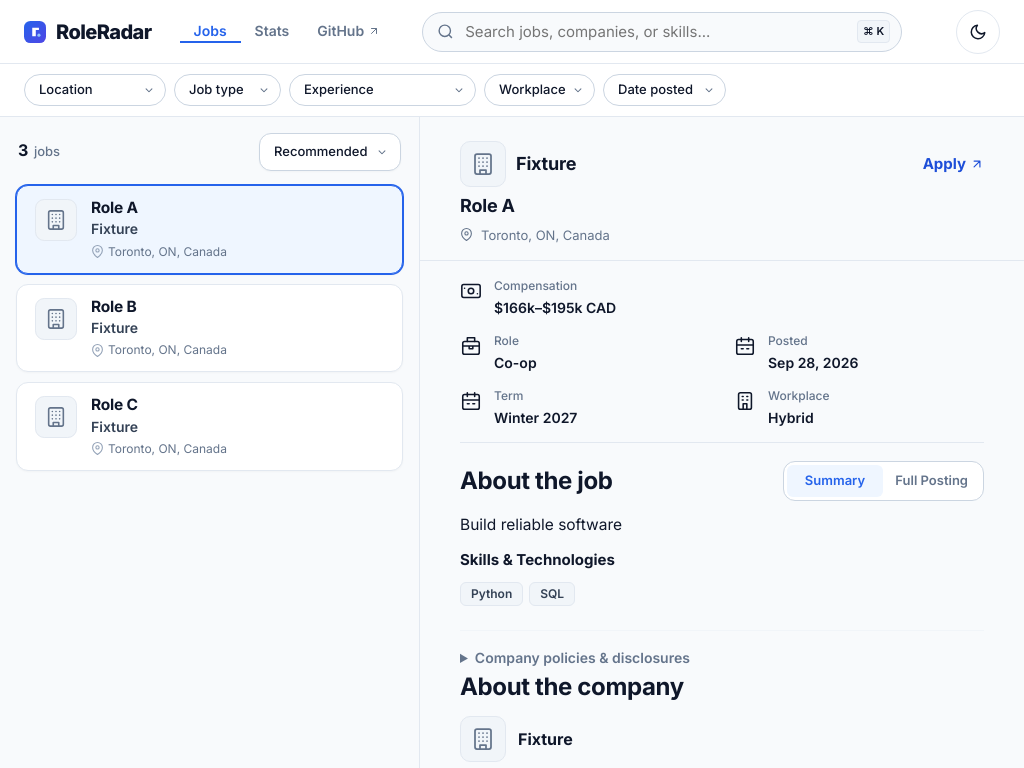
Test case: desktop split view › selecting jobs does not refetch or reload the job list
This screenshot has width=1024, height=768.
Expected: the heading "Role A" below "Apply" is shown, [460,195,515,216]
Step 1. Click the button with aria-label "View details for Role B" → point(114, 306), box [91,297,136,316]
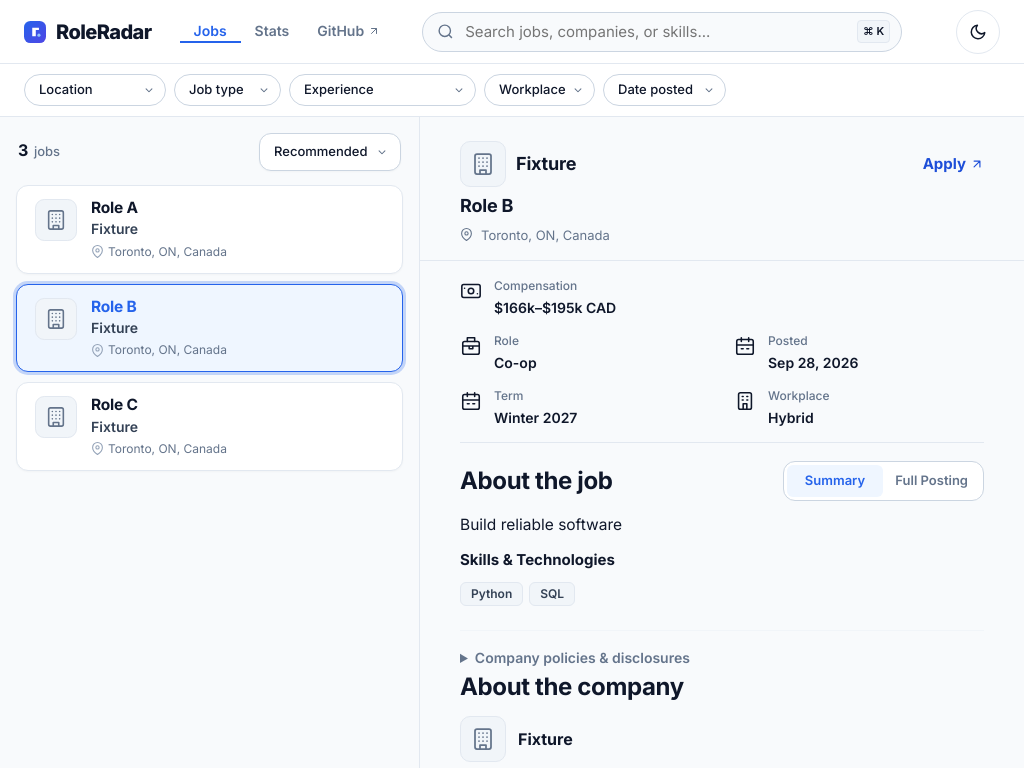
Now the heading "Role B" below "Apply" is shown, box [460,195,513,216]
Step 2. Type keys "j"
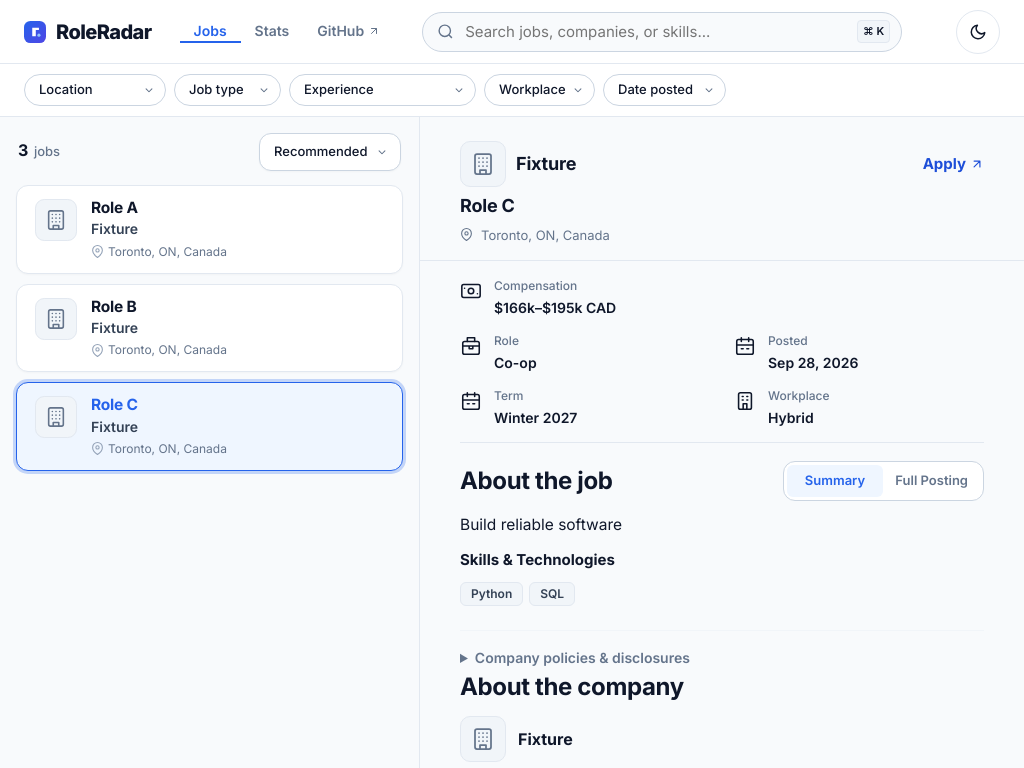
Now the heading "Role C" below "Apply" is shown, box [460,195,515,216]
